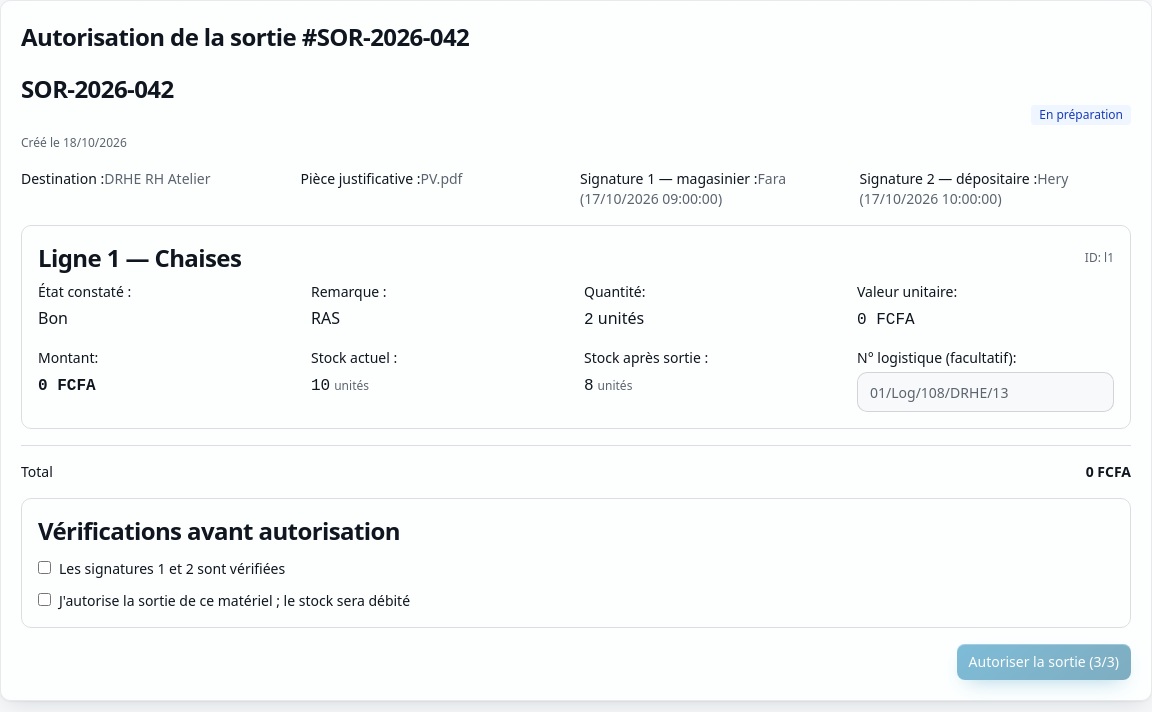
Test: Signature 3 — erreurs › R2 : 409 stock insuffisant → lignes listées, saisie conservée
The image size is (1152, 712).
Click the checkbox labelled "Les signatures 1 et 2 sont vérifiées".
click(44, 568)  # box 38,561 -> 51,574
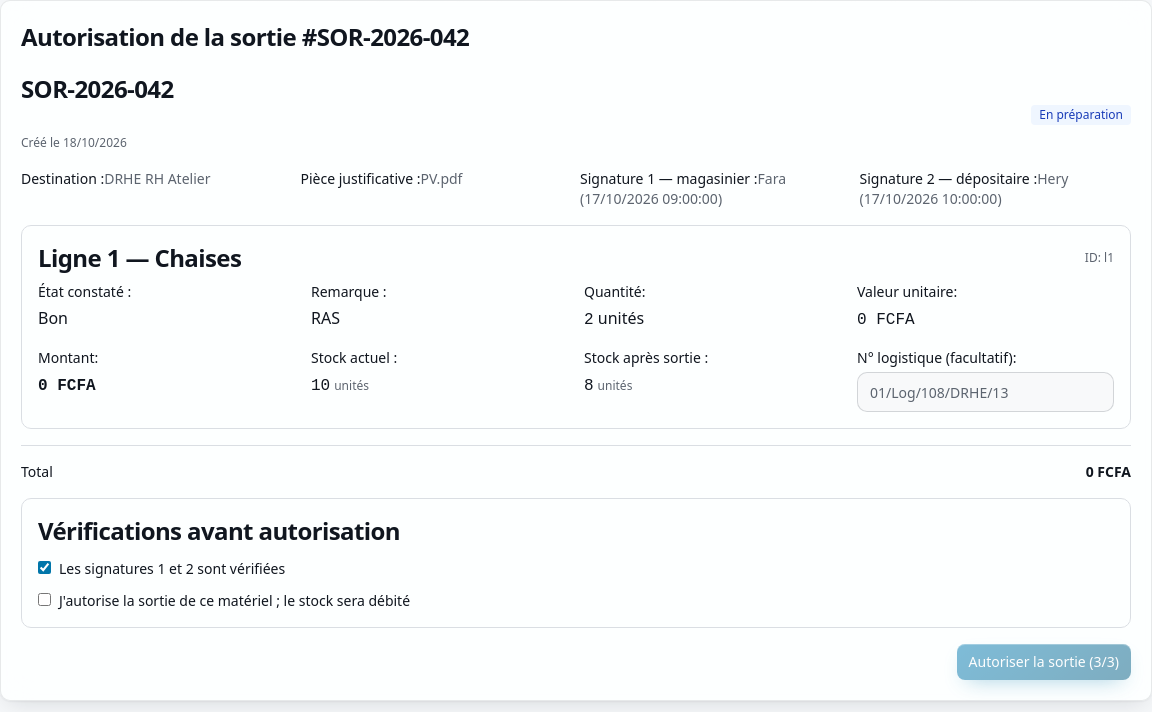
Click the checkbox labelled "J'autorise la sortie de ce matériel ; le stock sera débité".
click(44, 600)  # box 38,593 -> 51,606
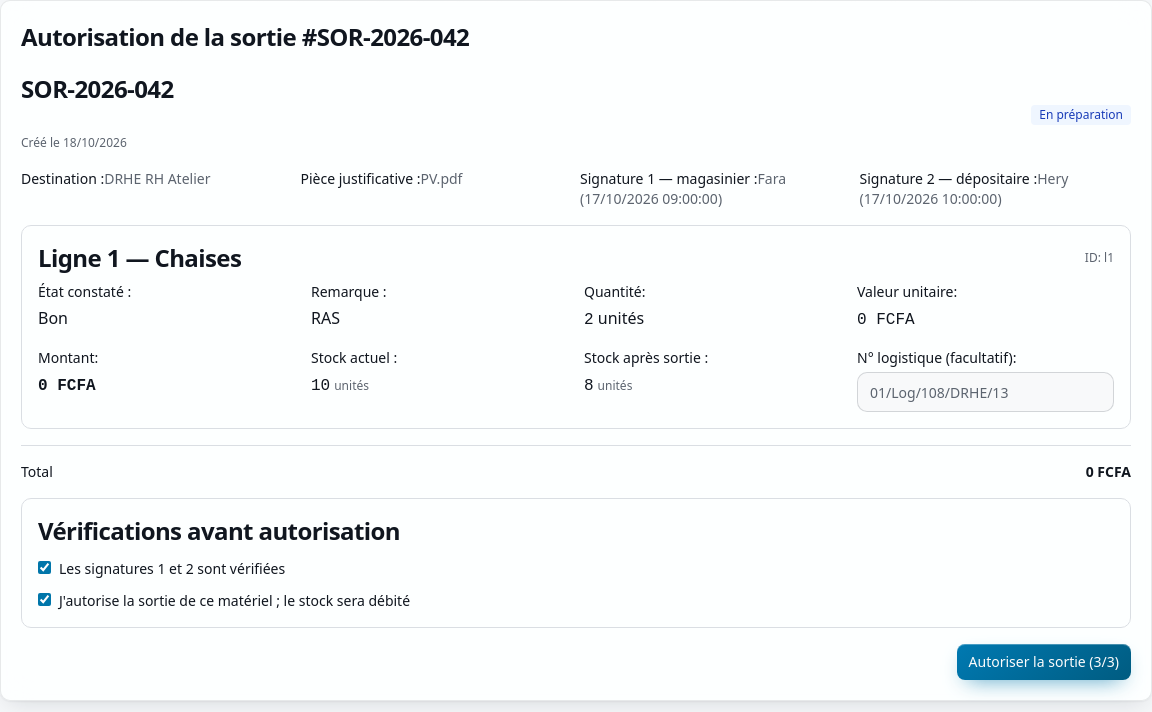
Type "MA-LOG-77" into the field with placeholder "01/Log/108/DRHE/13".
click(986, 392); type("MA-LOG-77")  # box 857,372 -> 1114,412
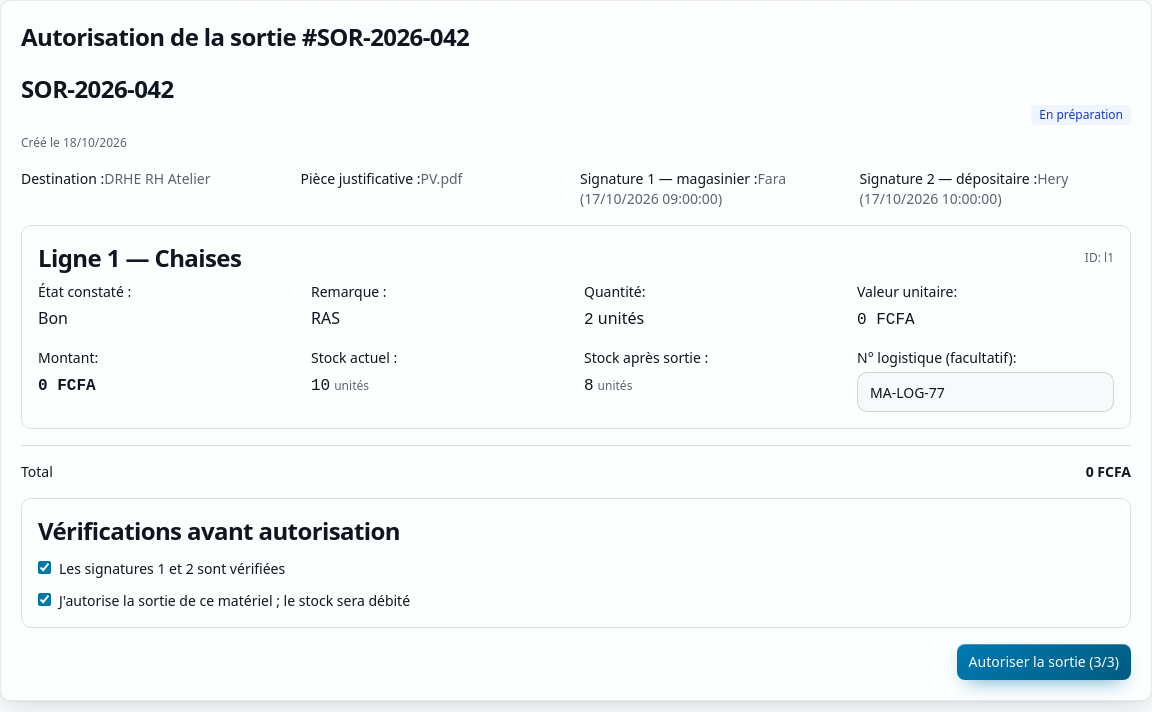
Click the button "Autoriser la sortie (3/3)".
click(1044, 662)  # box 957,644 -> 1131,680
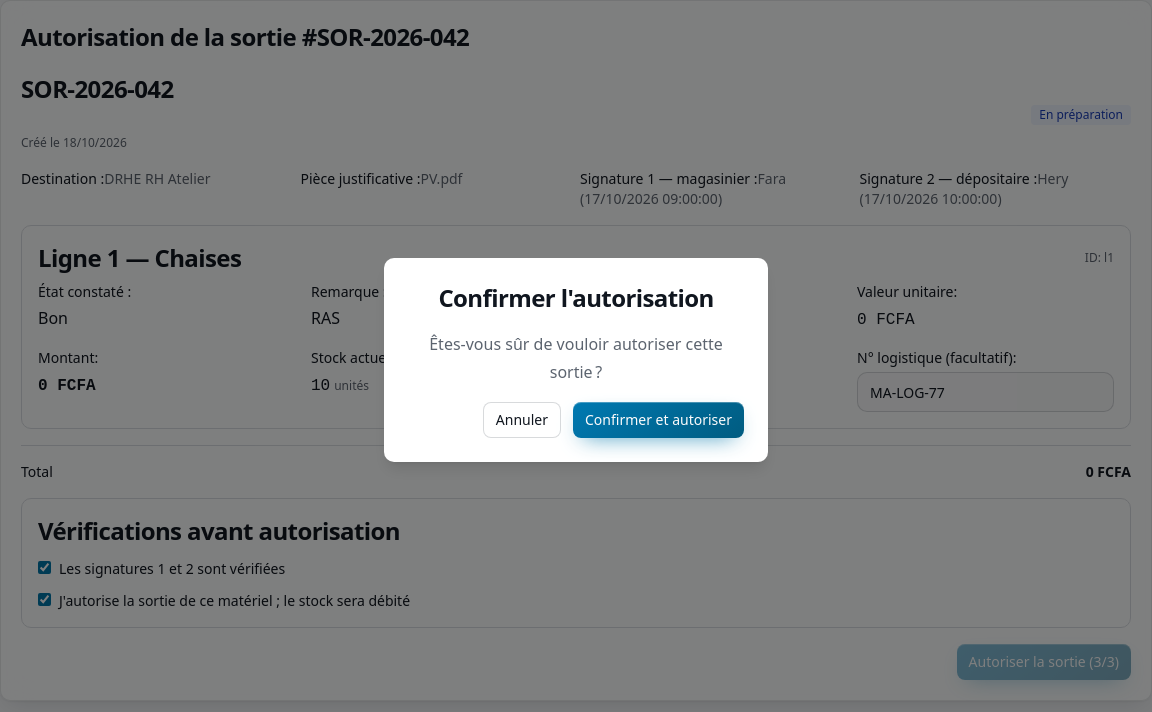
Click the button "Confirmer et autoriser".
click(658, 420)  # box 573,402 -> 744,438
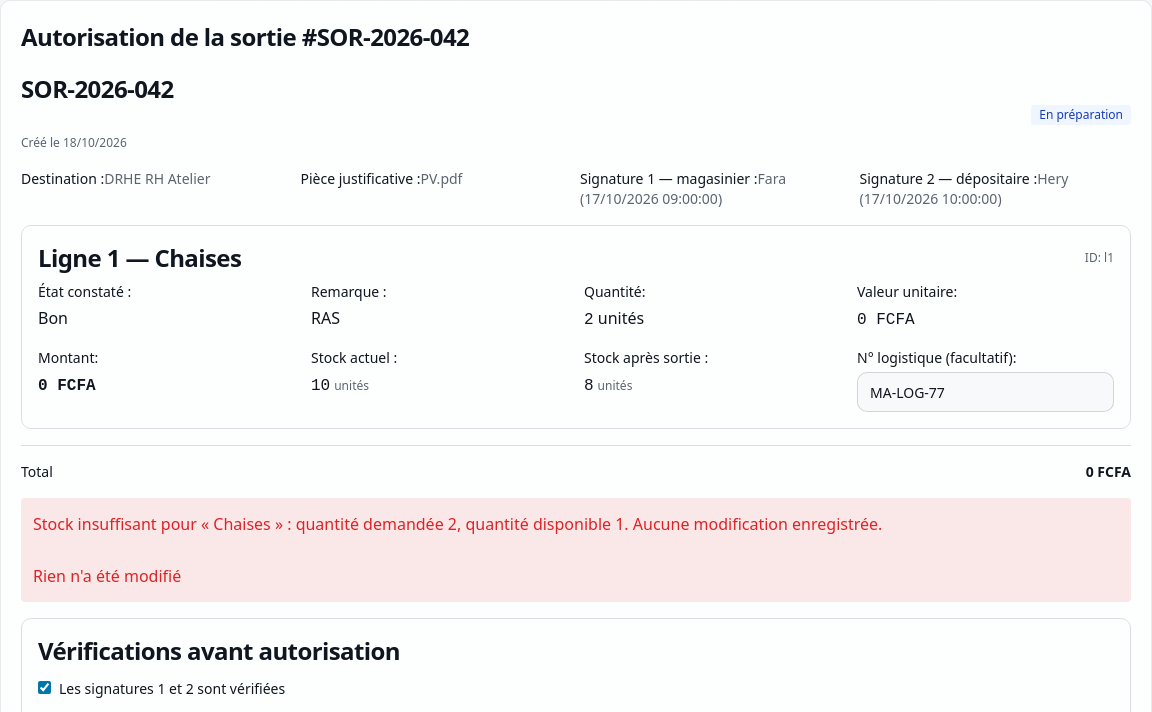
Now the message shows "Stock insuffisant", box 33,513 -> 882,535
Now the message shows "Rien n'a été modifié", box 33,565 -> 181,587
Now the message shows "quantité disponible 1", box 33,513 -> 882,535
